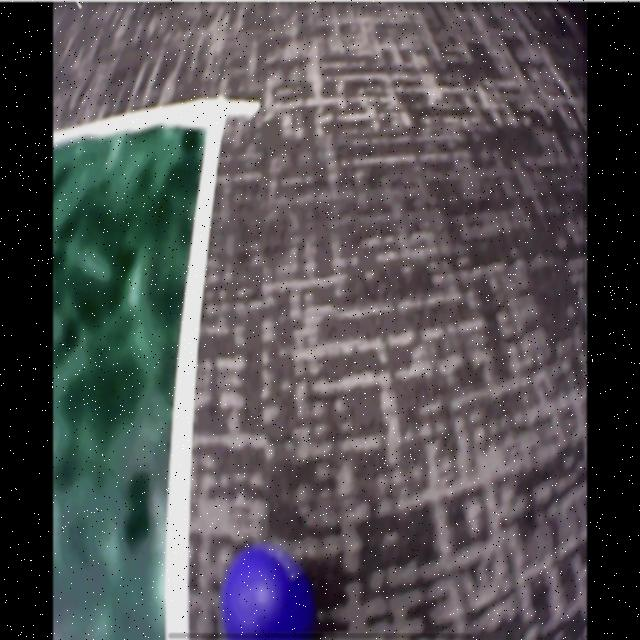ball: (221, 546, 312, 640)
